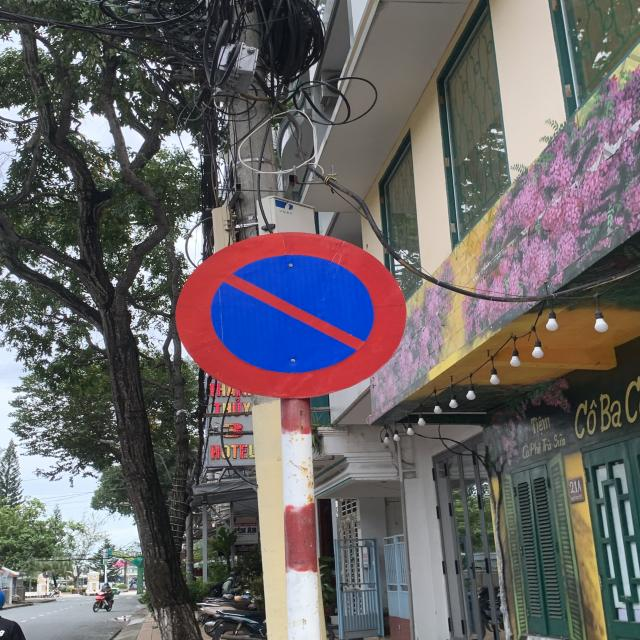Cam_Dau_Xe: (173, 230, 407, 397)
